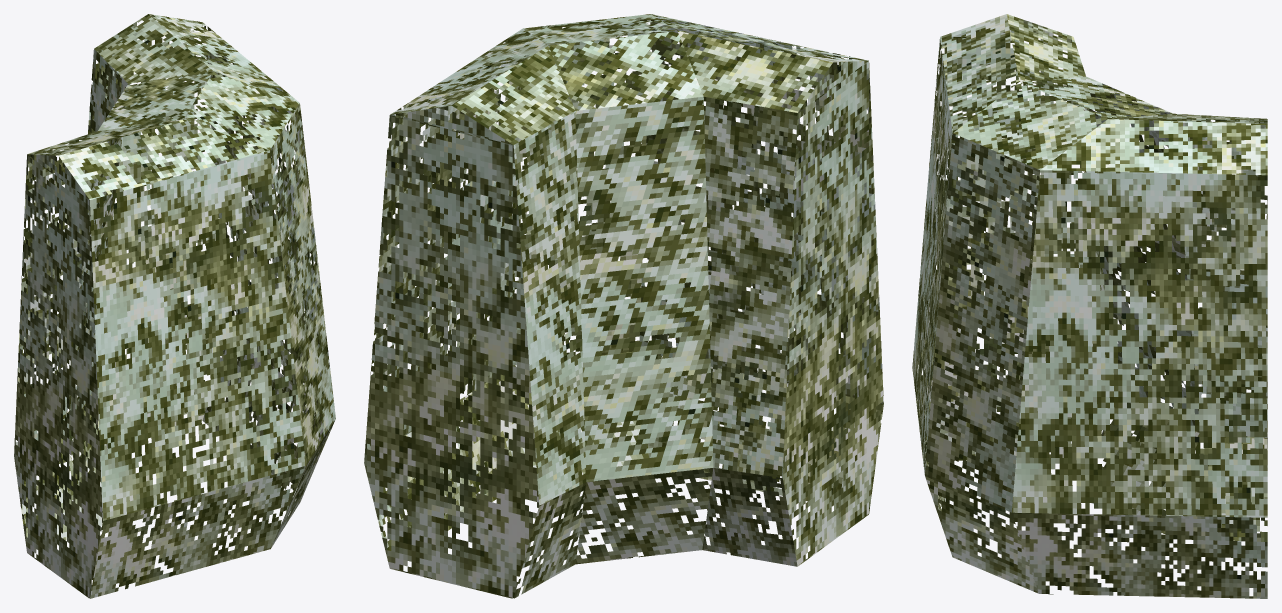
The model's file is bush_long_round_corner_winter.glb.
The picture shows the model from 3 angles, left to right: view 1: azimuth 30°, elevation 25°; view 2: azimuth 150°, elevation 25°; view 3: azimuth 270°, elevation 25°; orthographic projection. The views are drawn at different scales.
Visible parts, largest first — view 1: bush_long_round_corner_winter; view 2: bush_long_round_corner_winter; view 3: bush_long_round_corner_winter.
Part boxes in pixels (left/top/right/bottom): bush_long_round_corner_winter: left=14, top=14, right=335, bottom=598; bush_long_round_corner_winter: left=364, top=14, right=883, bottom=598; bush_long_round_corner_winter: left=912, top=14, right=1267, bottom=598.
Size of the model in its own units: 1.35 by 1.88 by 1.35.
Materials: 1 (1 with a texture image).
